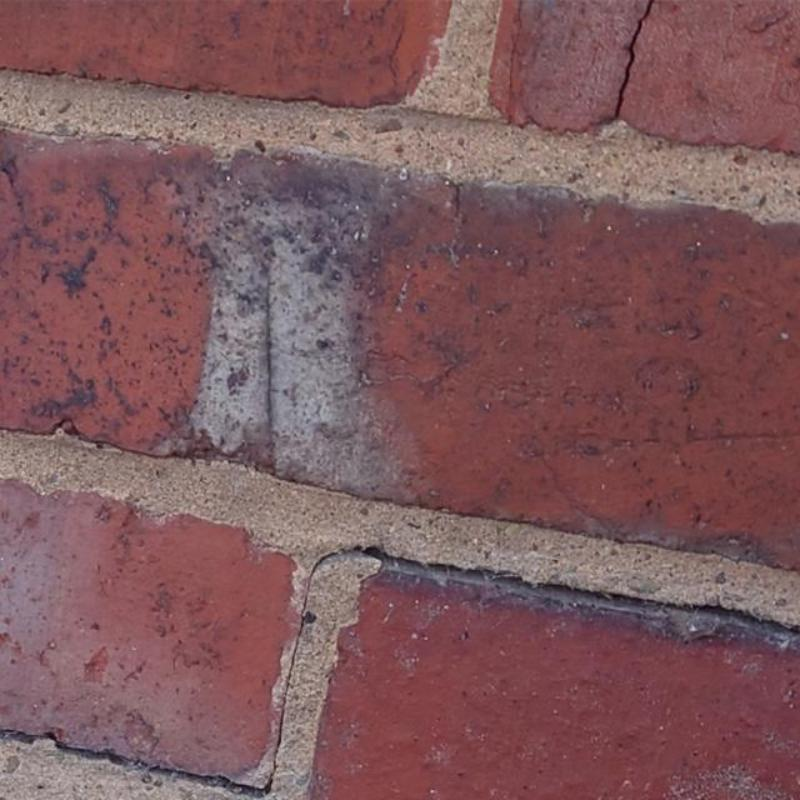crack: (351, 547, 800, 636), (1, 731, 270, 795), (270, 552, 340, 783), (616, 0, 653, 116)
